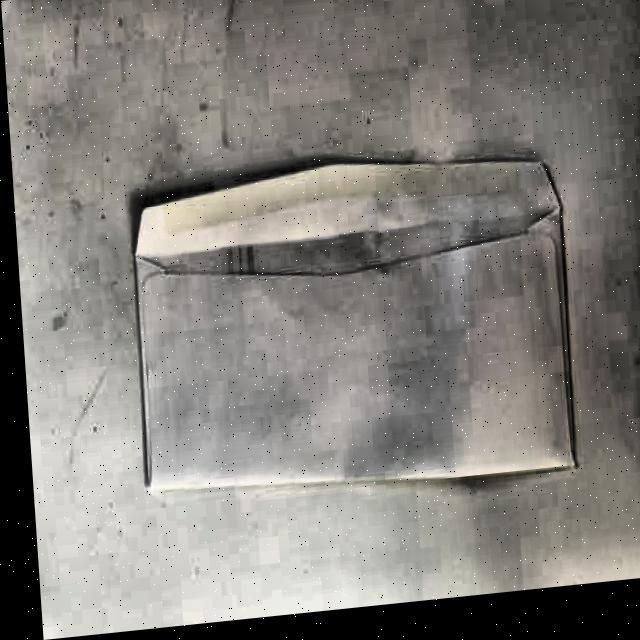paper: (122, 143, 584, 516)
